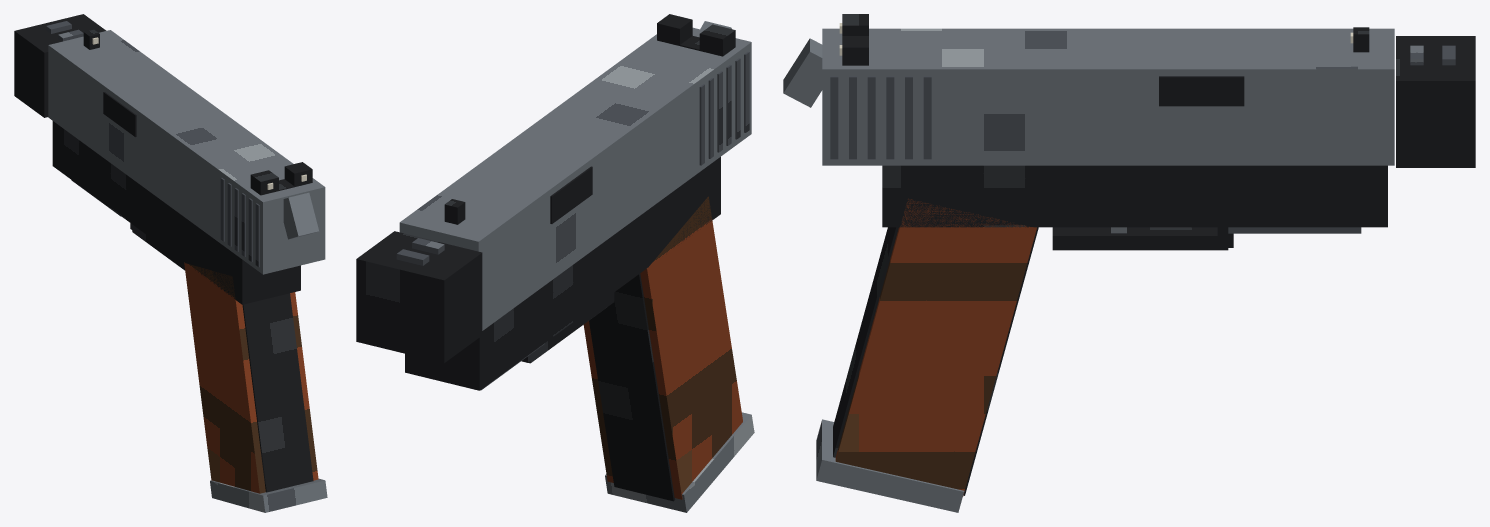
Rendered from viper.glb.
The picture shows the model from 3 angles, left to right: view 1: azimuth 30°, elevation 25°; view 2: azimuth 150°, elevation 25°; view 3: azimuth 270°, elevation 25°; orthographic projection. The views are drawn at different scales.
Parts seen in each view (by area): view 1: Body, Bolt, Mag, Irons; view 2: Body, Bolt, Mag, Irons; view 3: Body, Bolt, Mag, Irons.
Boxes of the visible parts, x1,y1,x2,y2 form: Body: (14, 14, 318, 493); Bolt: (48, 30, 325, 274); Mag: (210, 478, 327, 512); Irons: (83, 29, 312, 195); Body: (356, 21, 742, 501); Bolt: (399, 27, 751, 330); Mag: (605, 412, 754, 512); Irons: (444, 14, 735, 224); Body: (783, 36, 1475, 496); Bolt: (822, 28, 1394, 165); Mag: (816, 419, 964, 512); Irons: (839, 14, 1369, 65).
Size of the model in its own units: 0.04 by 0.1915 by 0.2602.
6 materials, 6 textured.
